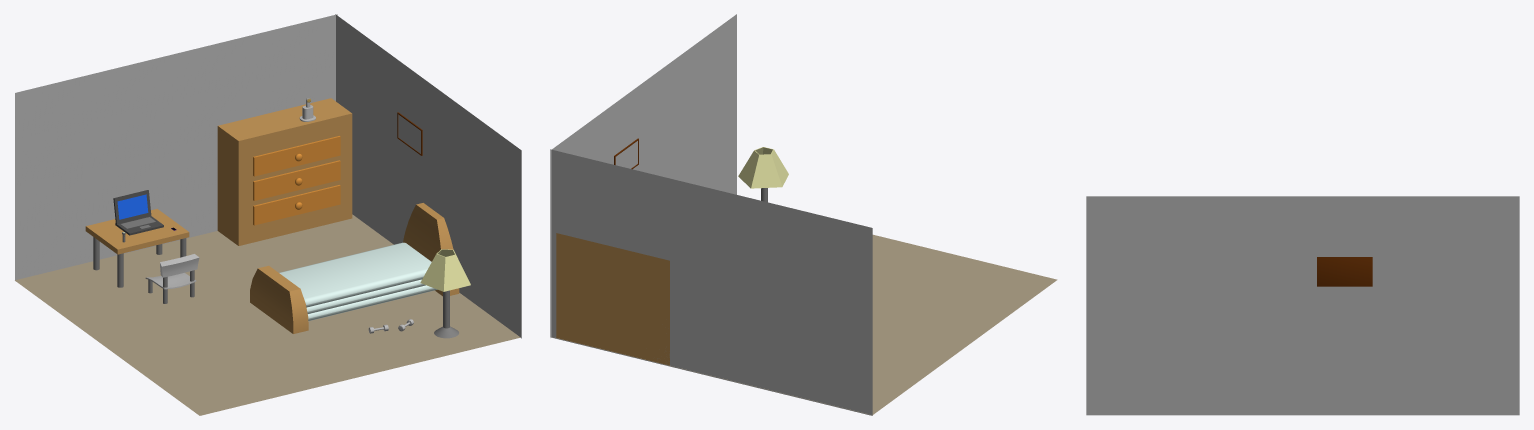
File: Room3.fbx
3 views of the same model, side by side, from view 1: azimuth 30°, elevation 25°; view 2: azimuth 150°, elevation 25°; view 3: azimuth 270°, elevation 25° (orthographic). The views are drawn at different scales.
Visible parts, largest first — view 1: Plane001, Plane003, Plane002, dresser, ChamferBox003, Box008, Box004, Box007, Box001, Box003, Box002, Tube001 (+6 smaller); view 2: Plane003, Plane001, Plane002, dresser, Tube001, Box019; view 3: Plane002, Box019.
Boxes of the visible parts, left/top/right/bottom form: Plane001: left=15, top=214, right=520, bottom=415; Plane003: left=15, top=14, right=337, bottom=280; Plane002: left=335, top=14, right=521, bottom=338; dresser: left=217, top=98, right=352, bottom=245; ChamferBox003: left=279, top=242, right=431, bottom=307; Box008: left=250, top=265, right=308, bottom=333; Box004: left=85, top=208, right=189, bottom=254; Box007: left=403, top=203, right=459, bottom=296; Box001: left=253, top=136, right=340, bottom=176; Box003: left=253, top=185, right=340, bottom=225; Box002: left=253, top=160, right=340, bottom=200; Tube001: left=420, top=249, right=470, bottom=291; Plane003: left=550, top=149, right=872, bottom=415; Plane001: left=552, top=234, right=1057, bottom=415; Plane002: left=550, top=14, right=736, bottom=337; dresser: left=556, top=233, right=669, bottom=365; Tube001: left=738, top=147, right=788, bottom=188; Box019: left=614, top=138, right=638, bottom=169; Plane002: left=1086, top=196, right=1519, bottom=415; Box019: left=1317, top=257, right=1372, bottom=286.
Size of the model in its own units: 359 by 200 by 359.
